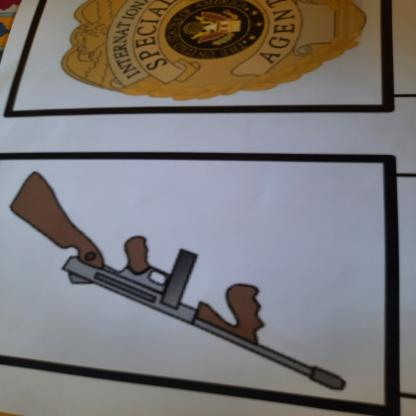Bootlegger: (10, 162, 368, 404)
G-man: (37, 1, 388, 112)
